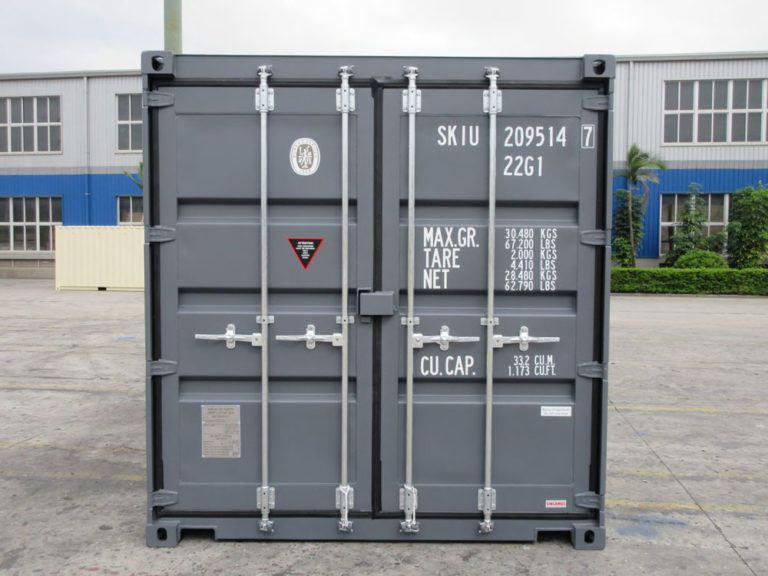ContainerNum: (435, 121, 597, 178)
